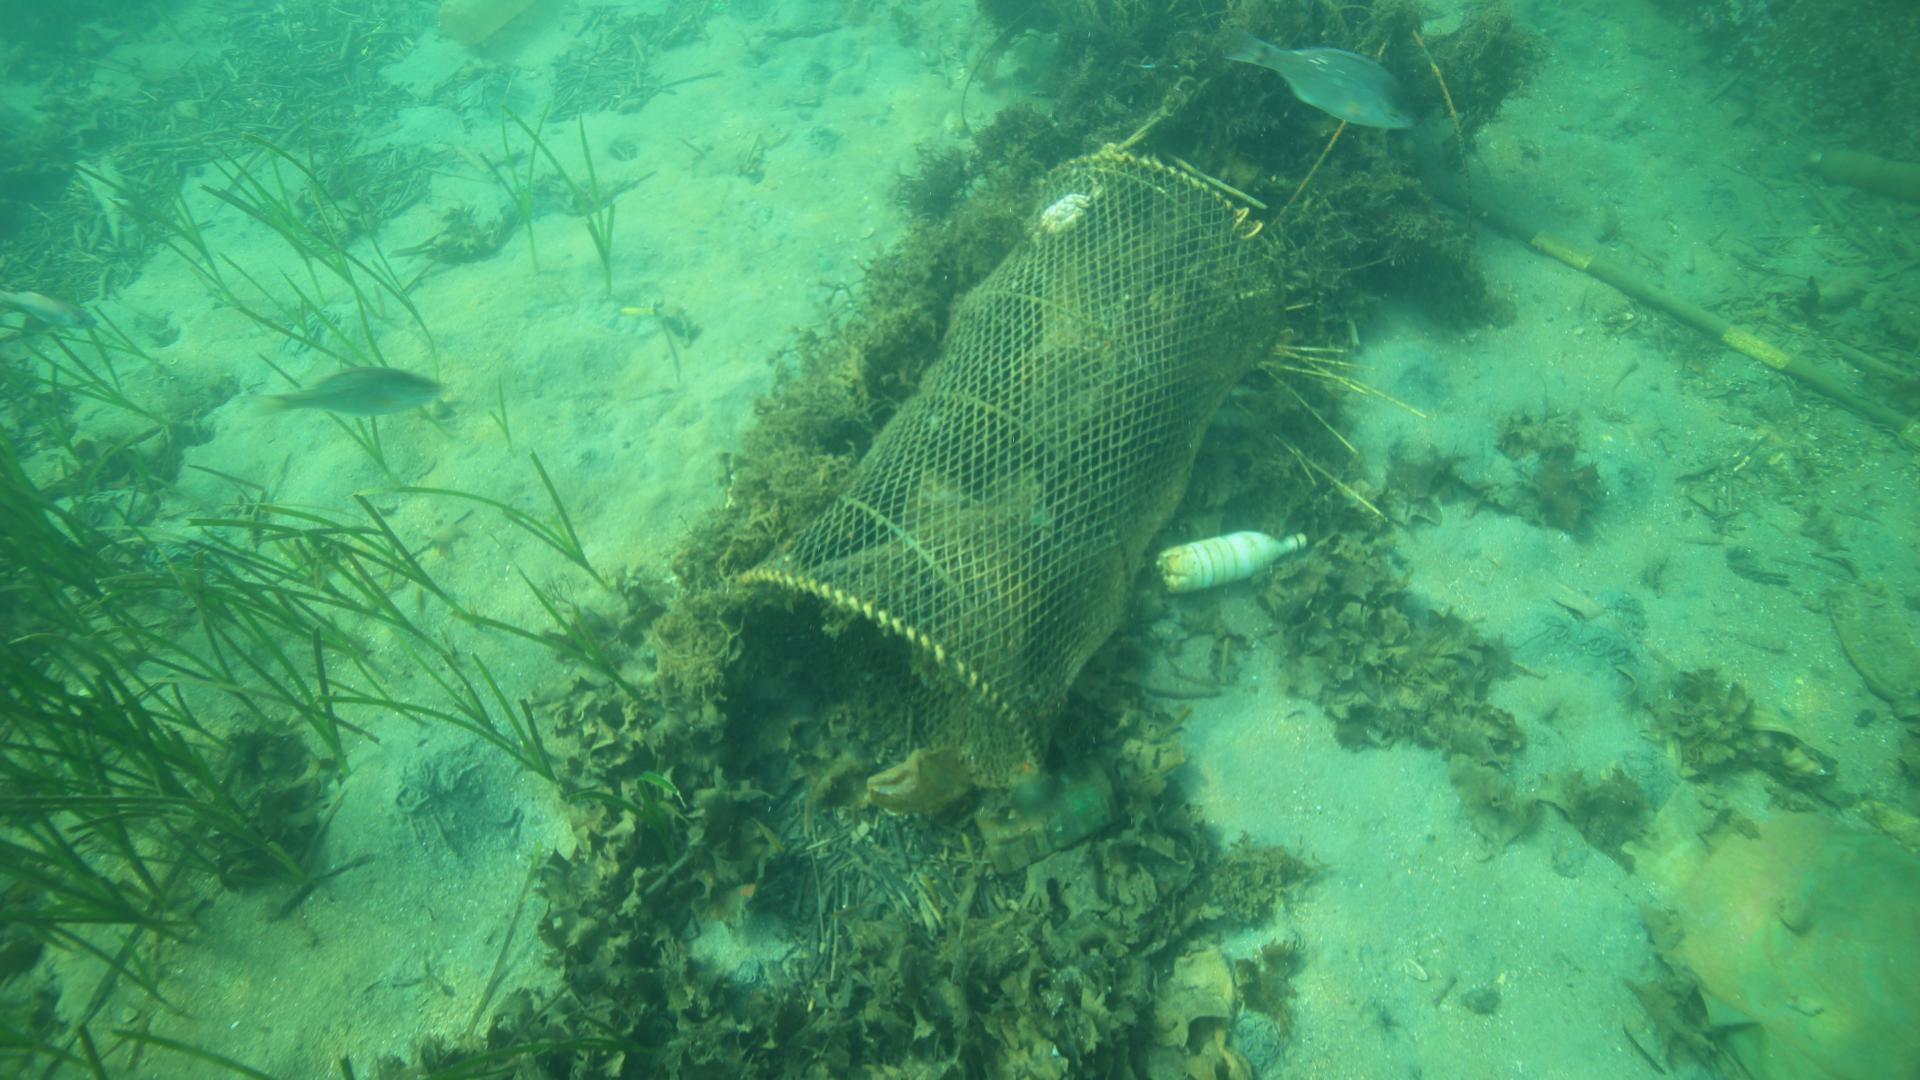bundle of ropes: (1102, 82, 1187, 156)
spring fish trap: (709, 145, 1288, 789)
